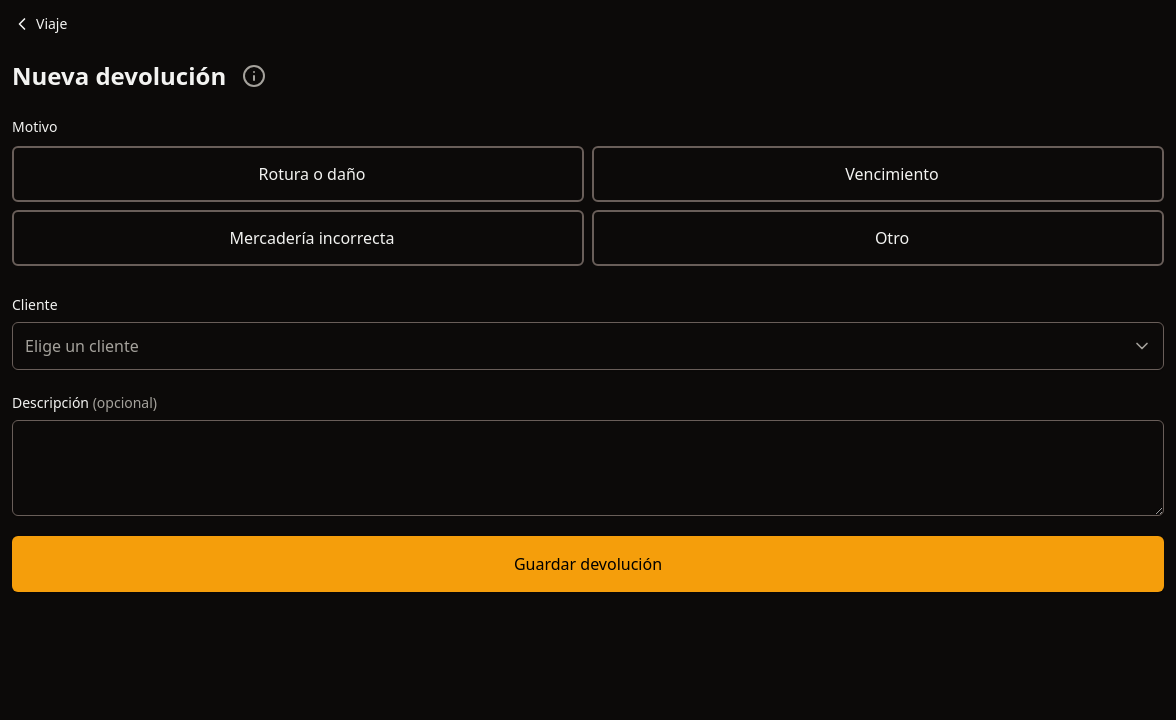
Test: formulario de devolución: validación y foco › enviar vacío: "Elige un motivo." y "Elige un cliente." en su campo, foco en el primero (el motivo) y NO se manda nada
This screenshot has width=1176, height=720.
Click the button "Guardar devolución" at point(588, 564), box [12, 536, 1164, 592]
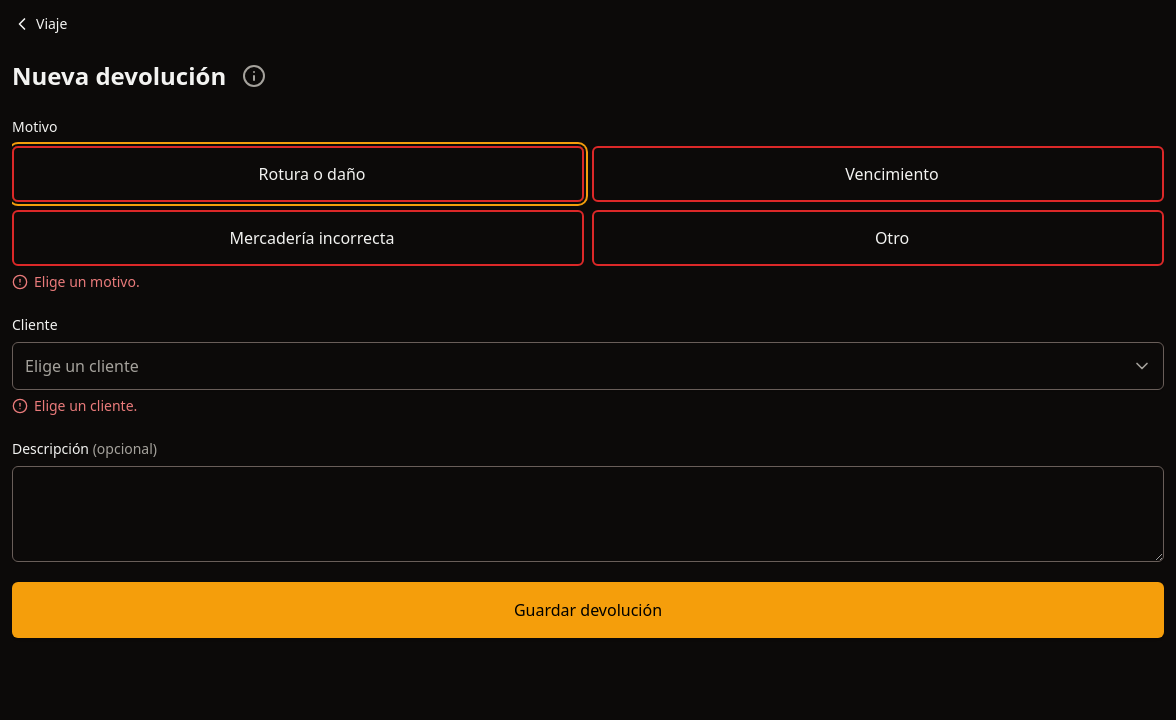
Expected: the text "Elige un motivo." is shown, [34, 272, 140, 292]
Expected: the text "Elige un cliente." is shown, [34, 396, 137, 416]
